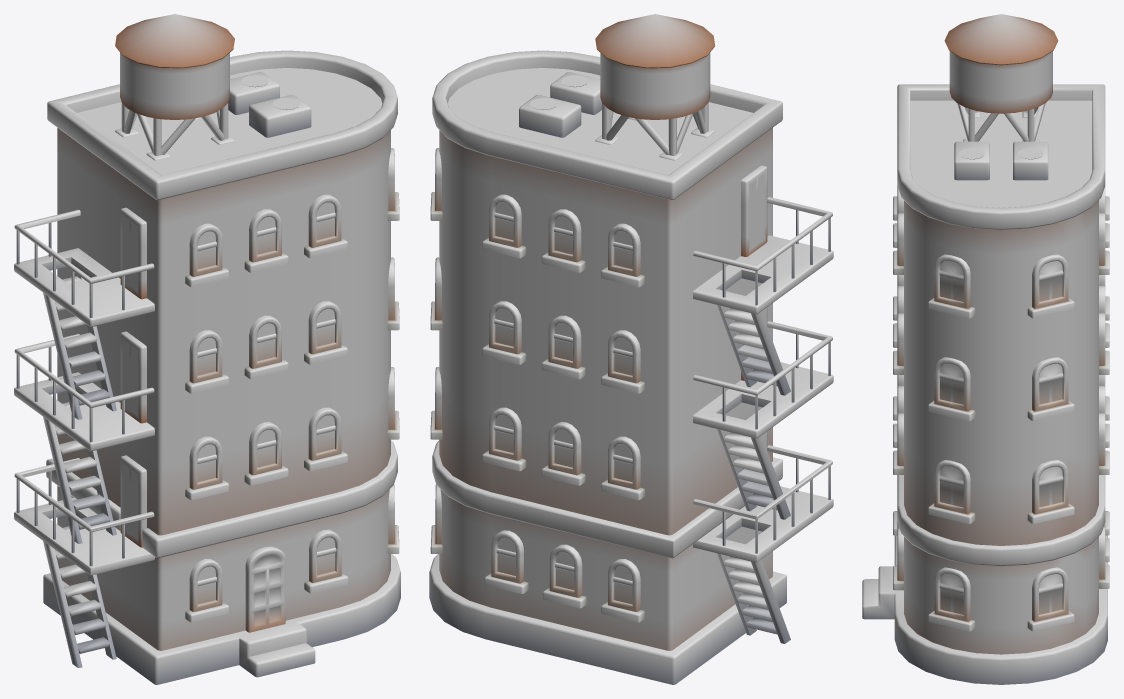
File: NF_Bld_Apartment 32.fbx
3 renders of one model, left to right at view 1: azimuth 30°, elevation 25°; view 2: azimuth 150°, elevation 25°; view 3: azimuth 270°, elevation 25°, orthographic. The views are drawn at different scales.
Visible parts, largest first — view 1: Apart_32; view 2: Apart_32; view 3: Apart_32.
Boxes of the visible parts, x1,y1,x2,y2 form: Apart_32: (14, 14, 400, 684); Apart_32: (429, 14, 833, 684); Apart_32: (862, 14, 1109, 684).
Size of the model in its own units: 11.43 by 19.5 by 7.61.
